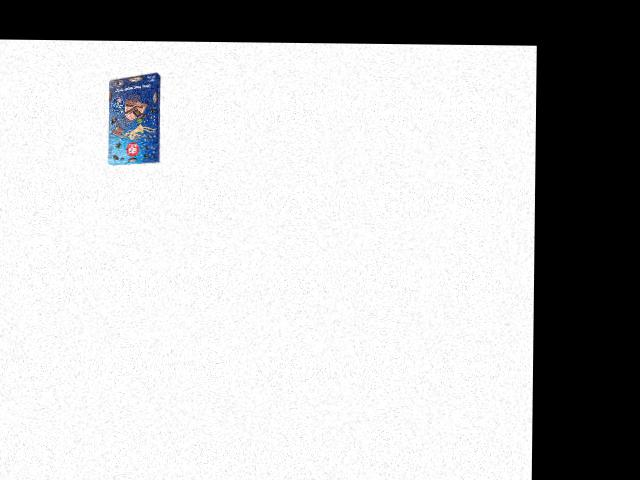chocolate: (101, 71, 166, 167)
